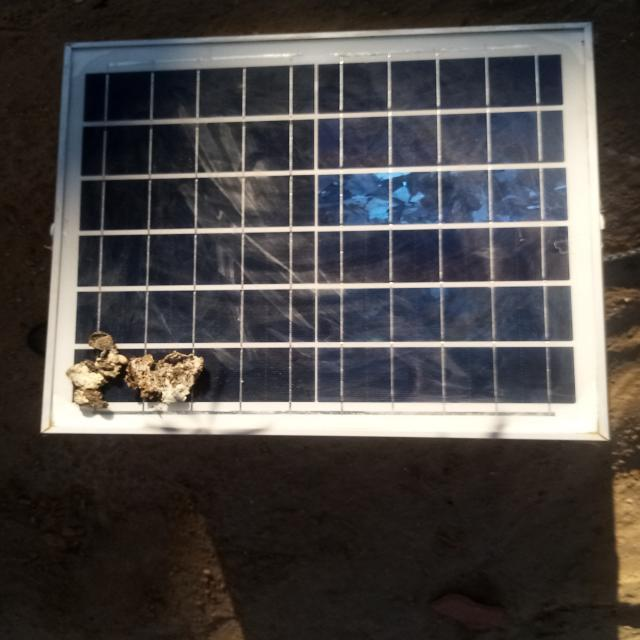faulty: (47, 28, 601, 438)
